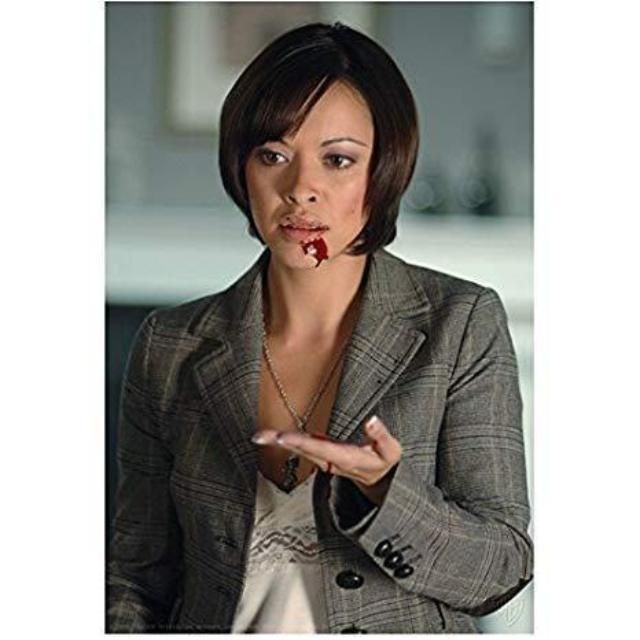blood: (299, 237, 331, 269), (320, 461, 334, 475)
